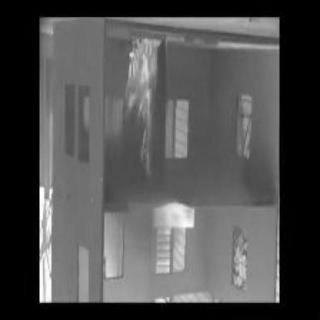Fire: (123, 40, 165, 178)
